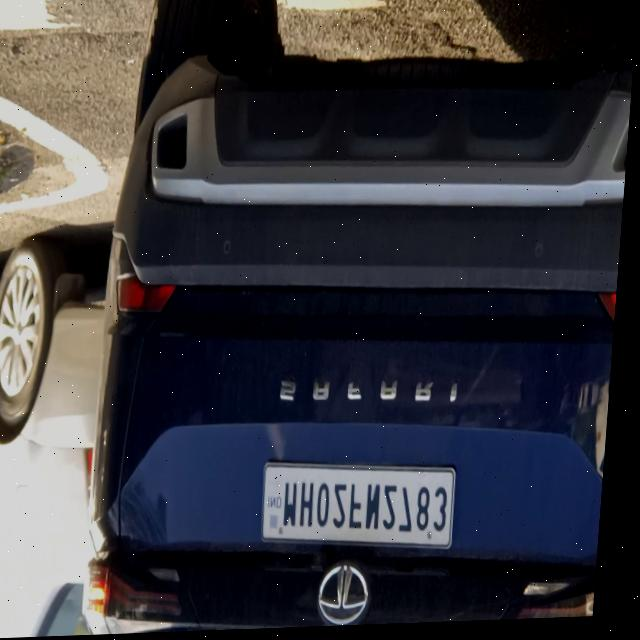plate: (265, 459, 466, 560)
